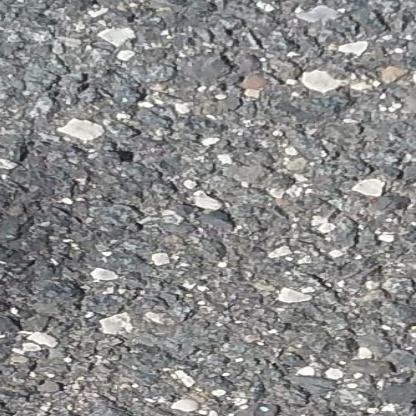Cracks: (387, 377, 416, 416)
